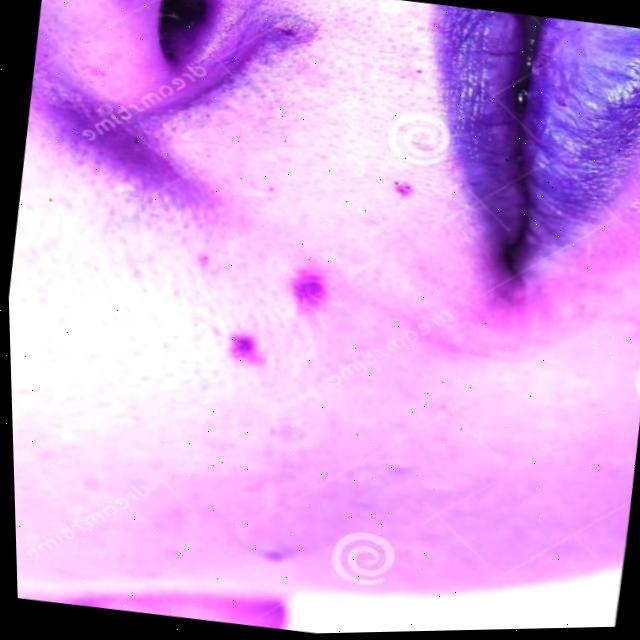Acne: (289, 265, 337, 313), (223, 323, 270, 364)
